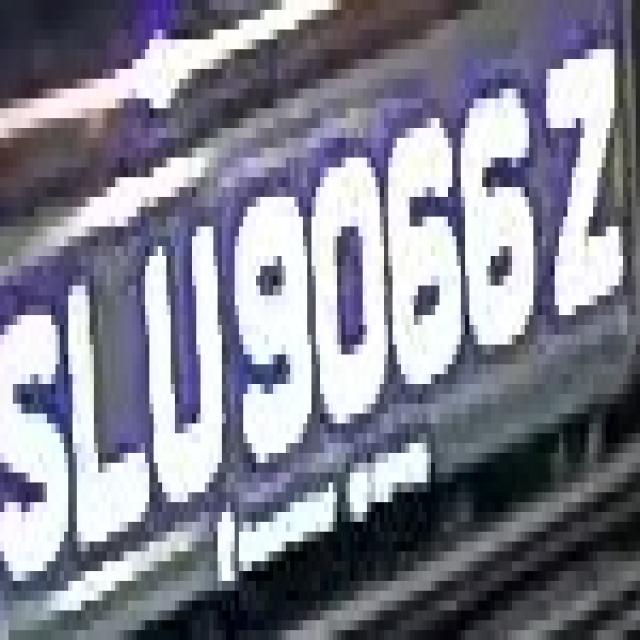0: (303, 128, 392, 463)
6: (380, 109, 461, 414), (461, 49, 533, 364)
9: (226, 187, 316, 473)
L: (60, 236, 149, 552)
S: (4, 266, 68, 620)
U: (140, 197, 234, 532)
Z: (542, 29, 631, 334)
